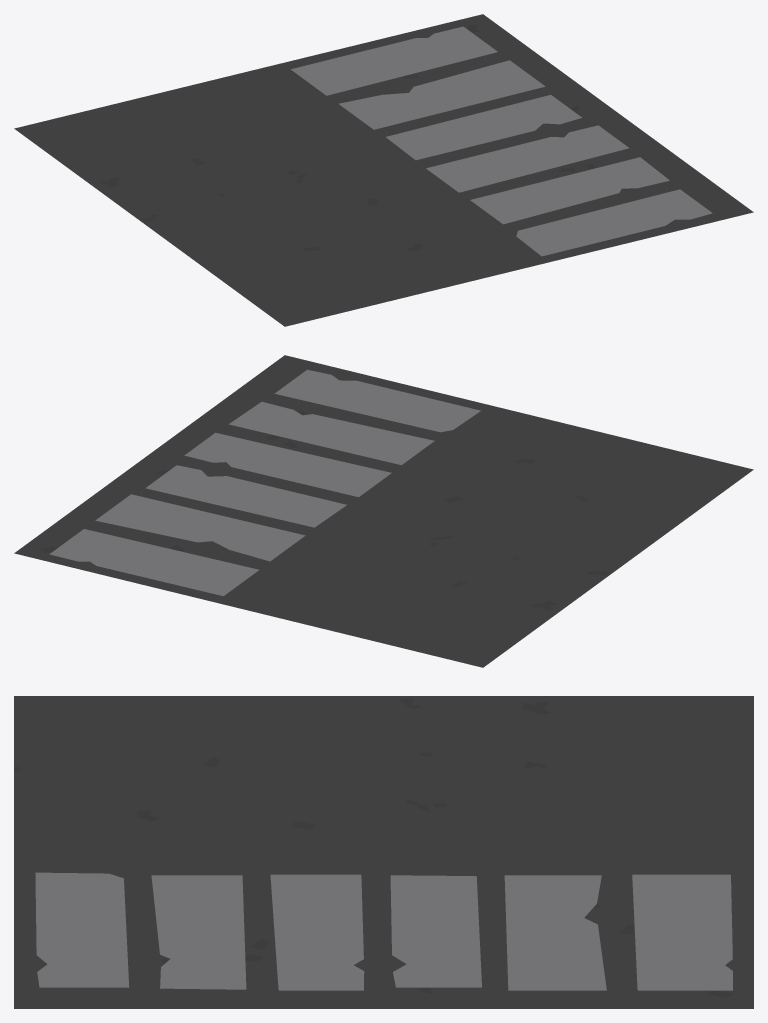
Rendered from SM_Env_Road_Crossing_02.glb.
The picture shows the model from 3 angles, top to bottom: view 1: azimuth 30°, elevation 25°; view 2: azimuth 150°, elevation 25°; view 3: azimuth 270°, elevation 25°; orthographic projection. The views are drawn at different scales.
Visible parts, largest first — view 1: SM_Env_Road_Crossing_02; view 2: SM_Env_Road_Crossing_02; view 3: SM_Env_Road_Crossing_02.
Part boxes in pixels (box(x1,y1,x2,y2)): SM_Env_Road_Crossing_02: box(14, 14, 753, 326); SM_Env_Road_Crossing_02: box(14, 355, 753, 667); SM_Env_Road_Crossing_02: box(14, 696, 753, 1008).
Bounding box in the file's own units: 5 × 3.29e-07 × 5.
1 material, 1 textured.
